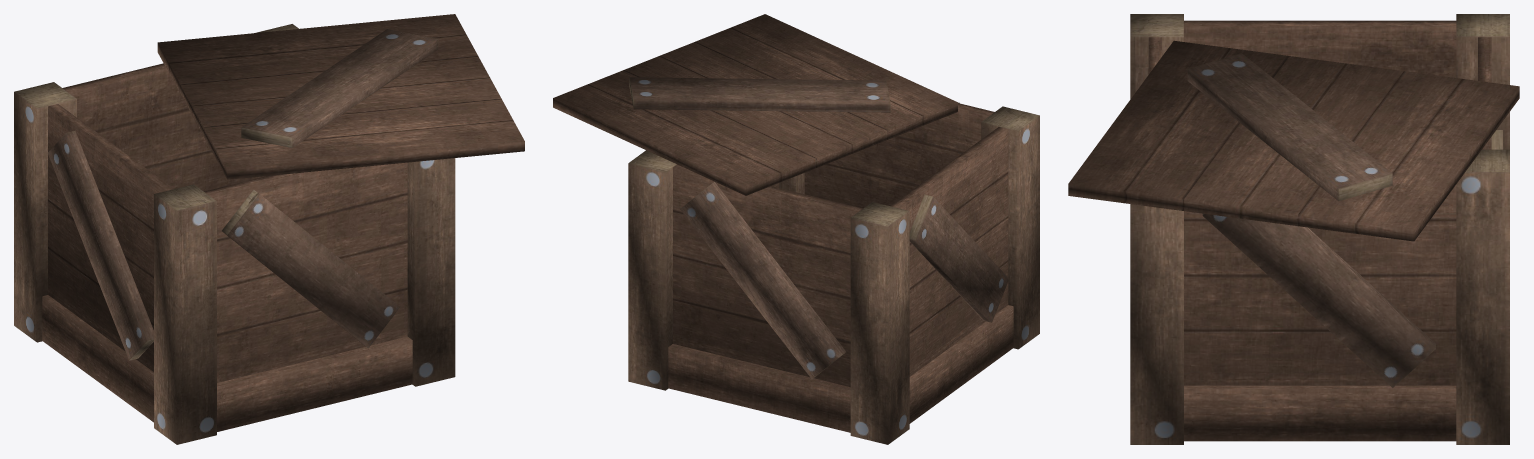
File: Wooden box 3,2.fbx
3 renders of one model, left to right at view 1: azimuth 30°, elevation 25°; view 2: azimuth 150°, elevation 25°; view 3: azimuth 270°, elevation 25°, orthographic. The views are drawn at different scales.
Parts seen in each view (by area): view 1: Wooden_box008_LOD0; view 2: Wooden_box008_LOD0; view 3: Wooden_box008_LOD0.
Boxes of the visible parts, <box> form: Wooden_box008_LOD0: <box>14,14,524,444</box>; Wooden_box008_LOD0: <box>553,14,1039,444</box>; Wooden_box008_LOD0: <box>1068,14,1519,444</box>.
Size of what is drawn, in the model's own units: 55.75 by 33.98 by 46.77.
